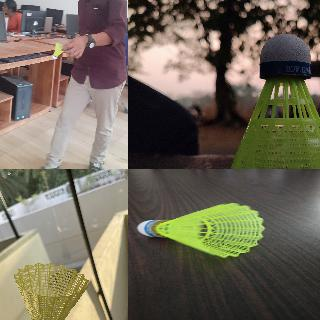shuttlecock: (221, 34, 319, 168), (136, 203, 264, 257), (14, 263, 89, 319), (52, 42, 64, 58)
